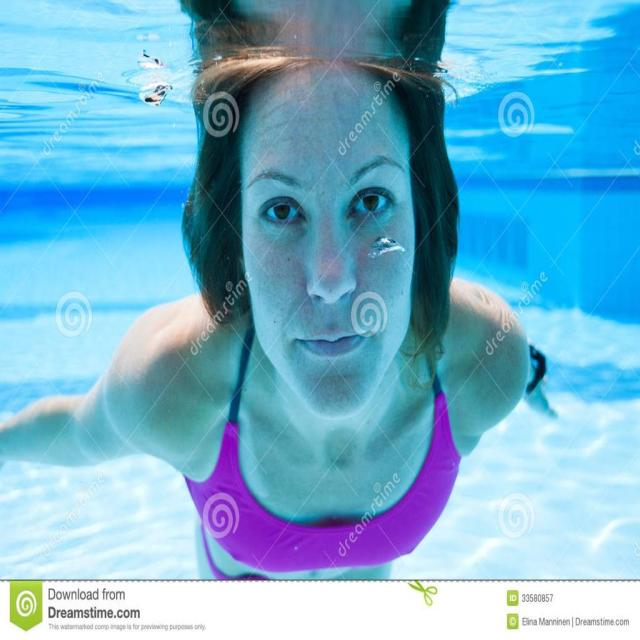Face: (225, 64, 441, 417)
